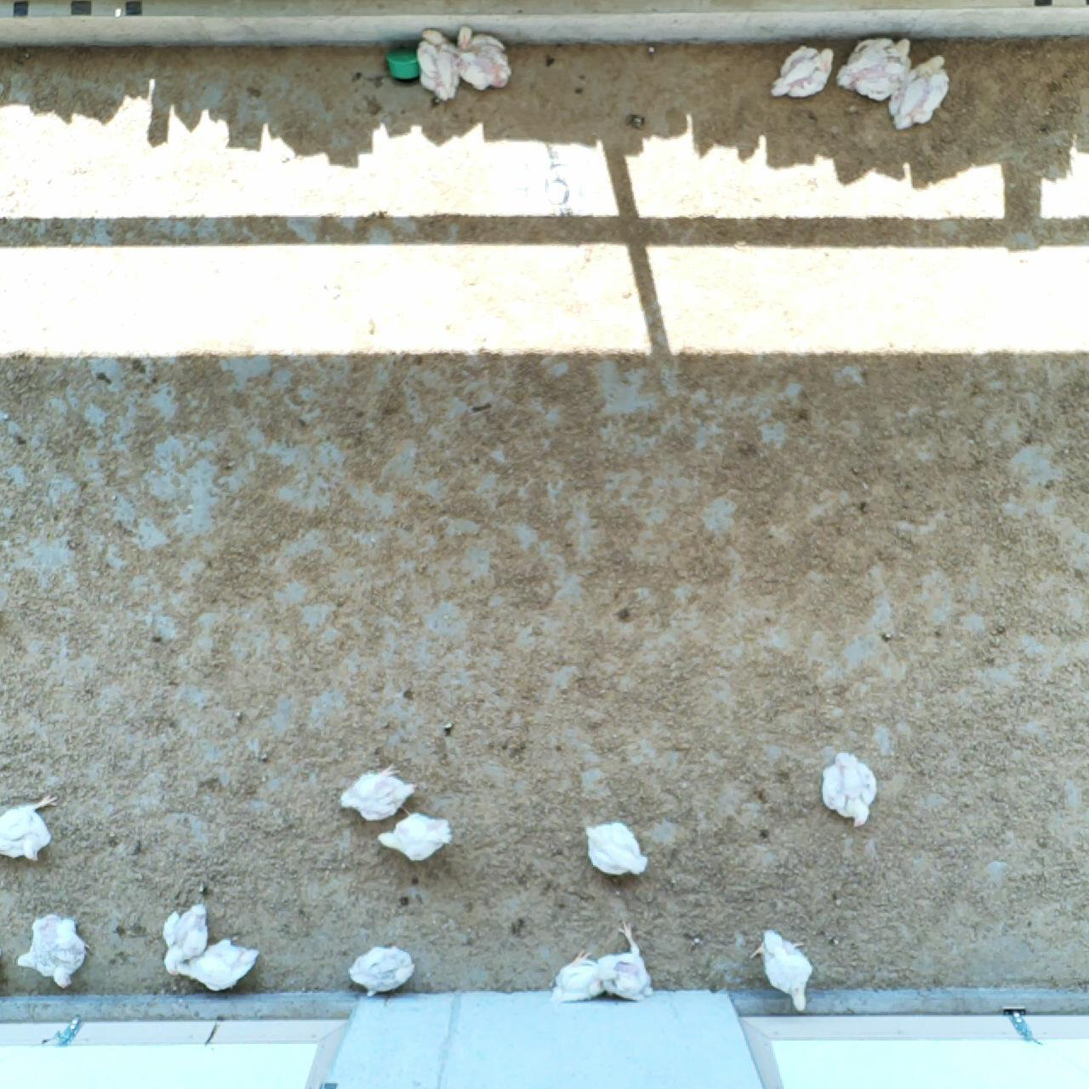chicken: (11, 915, 100, 990), (330, 767, 422, 830), (569, 813, 655, 879), (755, 933, 822, 1015), (896, 48, 955, 137), (152, 896, 214, 975), (175, 938, 261, 994), (378, 807, 459, 866), (818, 754, 878, 833), (596, 938, 661, 1009), (1, 791, 61, 867), (840, 38, 913, 98), (771, 38, 830, 107), (411, 28, 466, 101), (462, 26, 512, 100), (349, 946, 421, 994), (550, 954, 605, 1006)
